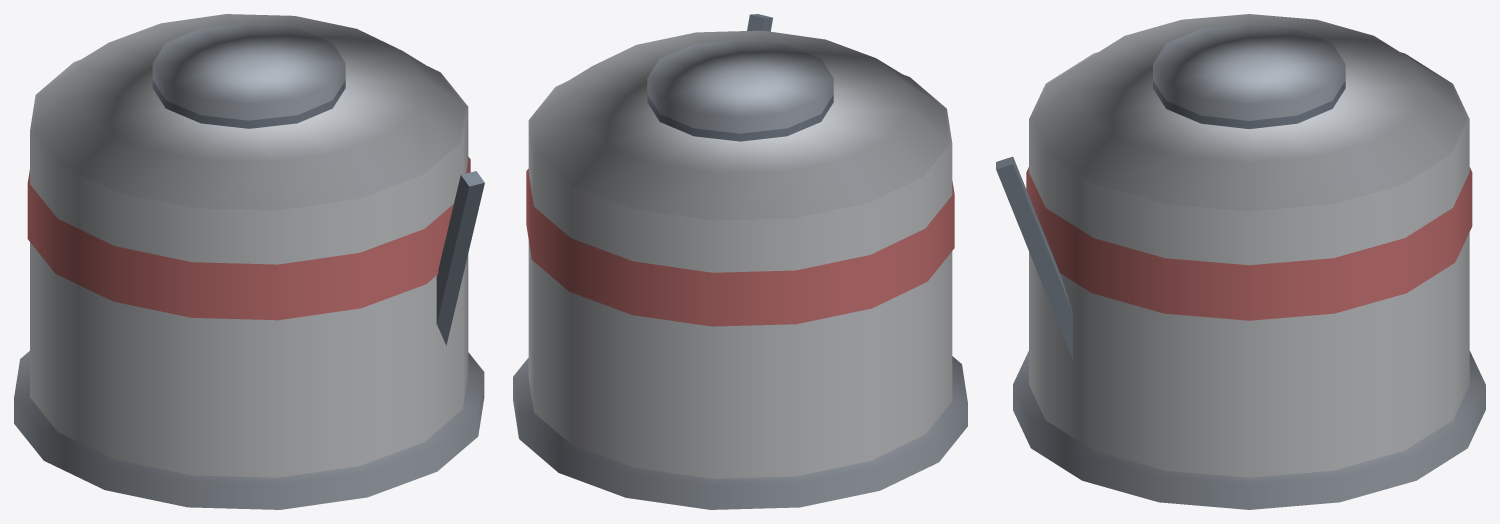
Rendered from refinery-tank.glb.
3 views of the same model, side by side, from view 1: azimuth 30°, elevation 25°; view 2: azimuth 150°, elevation 25°; view 3: azimuth 270°, elevation 25° (orthographic). The views are drawn at different scales.
Visible parts, largest first — view 1: Root; view 2: Root; view 3: Root.
Boxes of the visible parts, x1,y1,x2,y2 form: Root: (14,14,484,509); Root: (513,14,967,509); Root: (996,14,1485,509).
Bounding box in the file's own units: 11.8 × 9.52 × 12.22.
